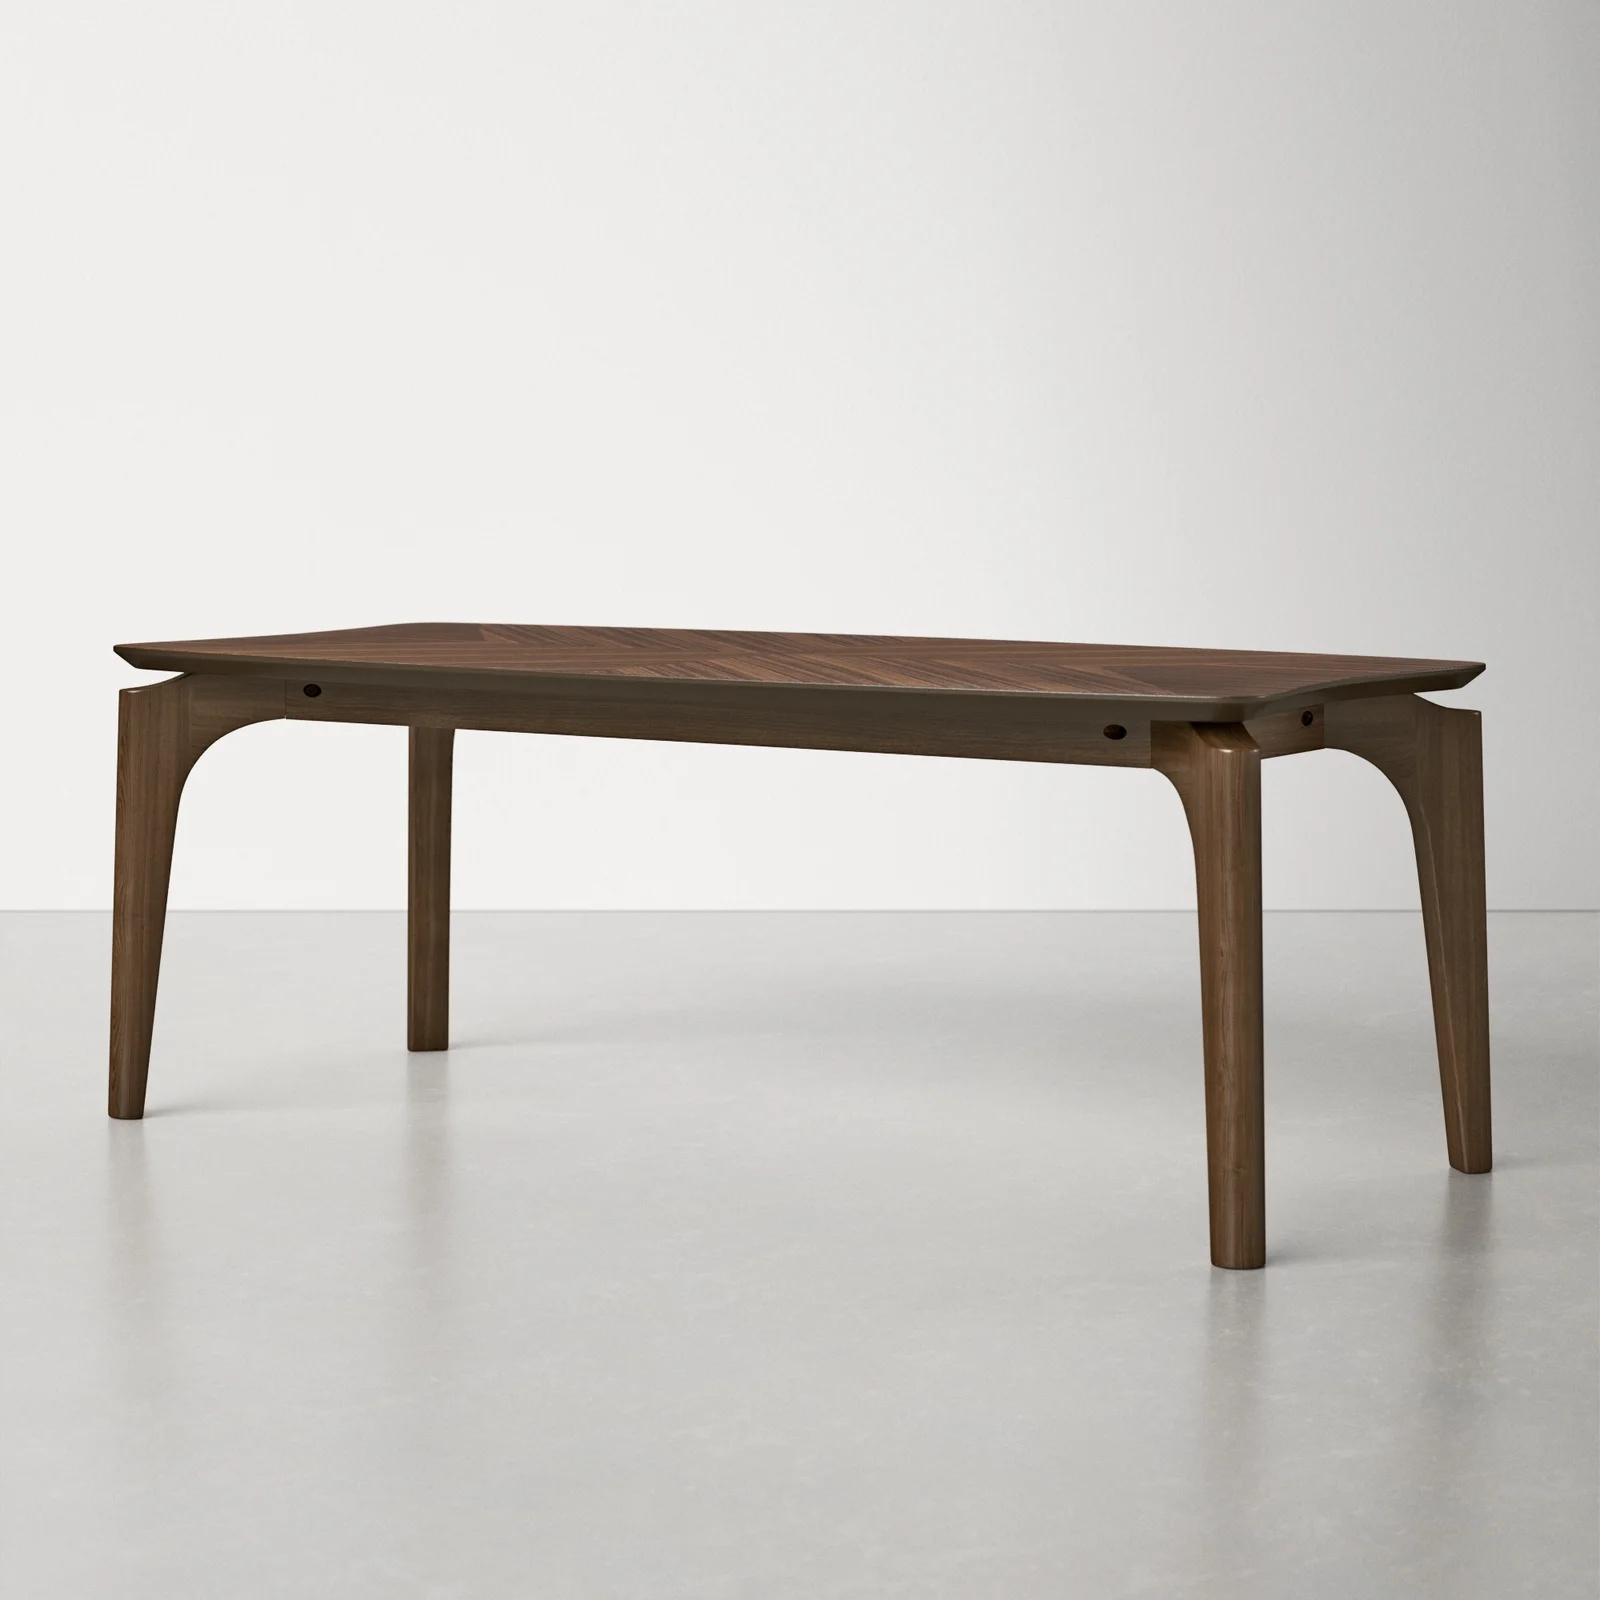obstacle: (108, 623, 1492, 1267)
